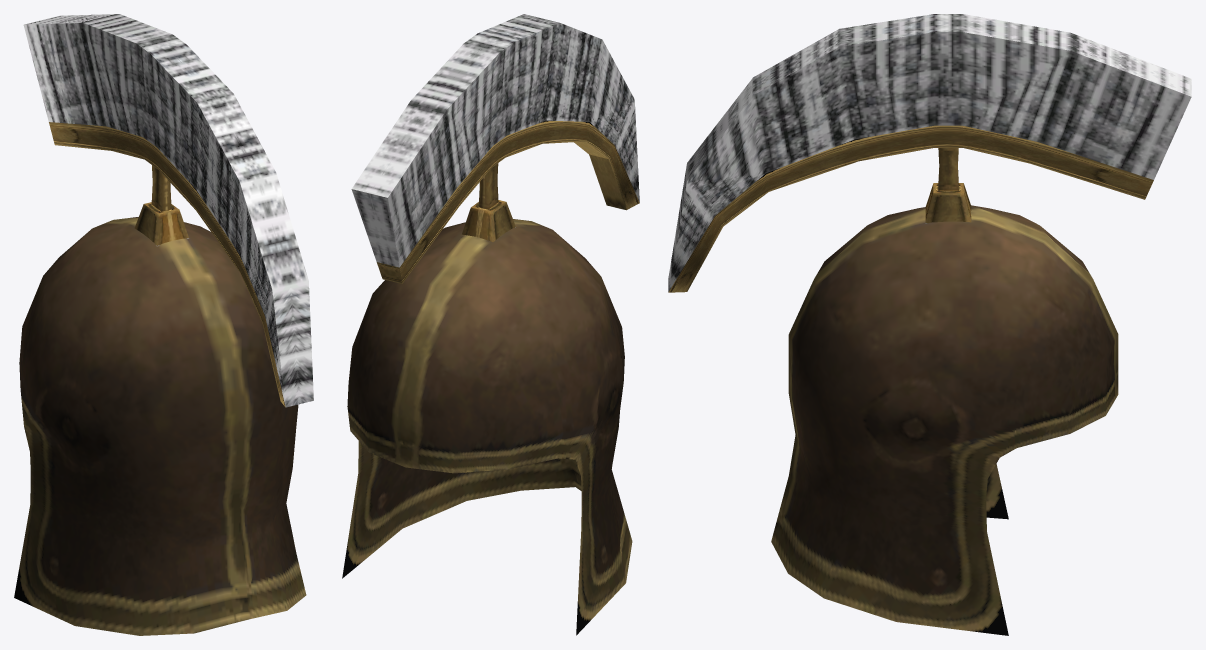
File: helm_iber_helmet_c.glb
The picture shows the model from 3 angles, left to right: view 1: azimuth 30°, elevation 25°; view 2: azimuth 150°, elevation 25°; view 3: azimuth 270°, elevation 25°; orthographic projection. The views are drawn at different scales.
Visible parts, largest first — view 1: helm_iber_helmet_c_part0, helm_iber_helmet_c_part1; view 2: helm_iber_helmet_c_part0, helm_iber_helmet_c_part1; view 3: helm_iber_helmet_c_part0, helm_iber_helmet_c_part1.
Boxes of the visible parts, box(x1,y1,x2,y2) form: helm_iber_helmet_c_part0: box(14, 217, 306, 635); helm_iber_helmet_c_part1: box(23, 14, 313, 407); helm_iber_helmet_c_part0: box(342, 219, 632, 635); helm_iber_helmet_c_part1: box(351, 14, 639, 283); helm_iber_helmet_c_part0: box(771, 205, 1118, 635); helm_iber_helmet_c_part1: box(668, 14, 1191, 292).
Bounding box in the file's own units: 0.4585 × 1.02 × 0.8691.
Materials: 2 (2 with a texture image).
